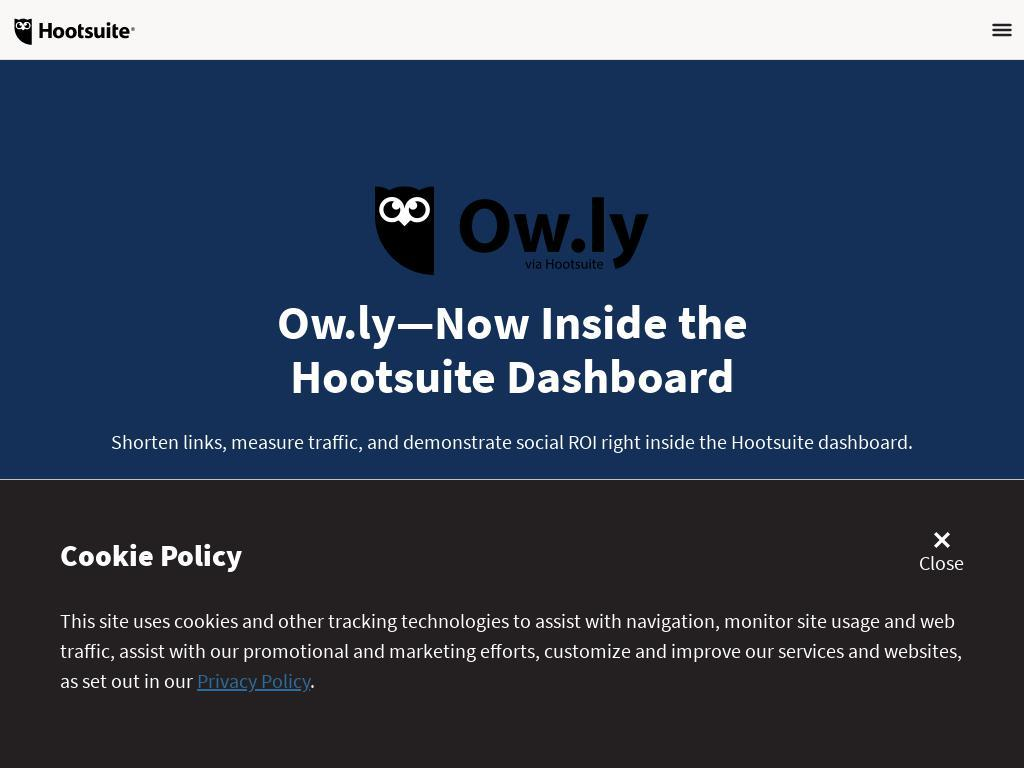button: (334, 481, 538, 533), (569, 481, 690, 533), (12, 16, 137, 47), (919, 532, 964, 578), (992, 19, 1012, 40)
heading: (276, 292, 748, 352), (289, 346, 735, 406), (270, 677, 519, 719), (518, 677, 754, 719), (60, 528, 242, 582), (44, 767, 500, 768), (524, 767, 980, 768)
image: (375, 186, 649, 275), (992, 19, 1012, 40), (933, 532, 950, 548)
link: (197, 668, 310, 693)
text: (60, 608, 962, 693), (44, 427, 980, 457), (919, 548, 964, 578), (537, 491, 570, 517), (310, 668, 315, 693)
